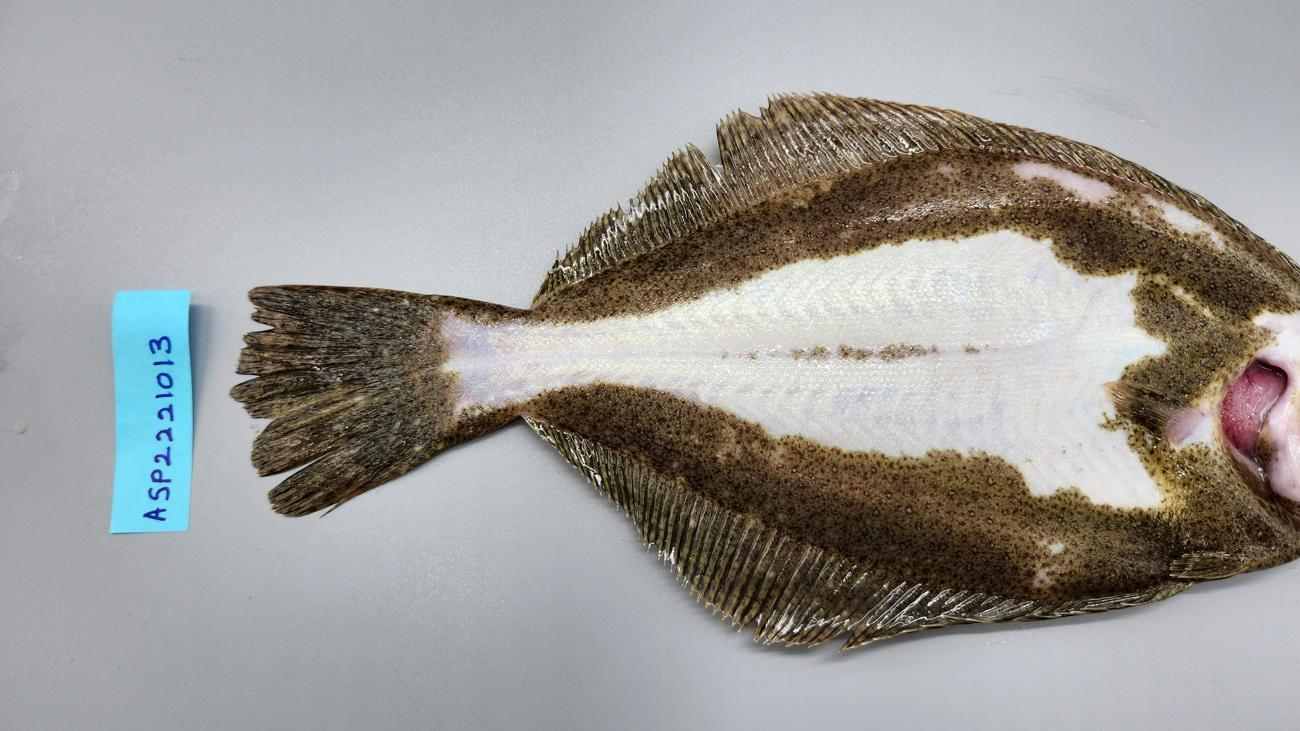SPDYH: (1104, 369, 1210, 458)
